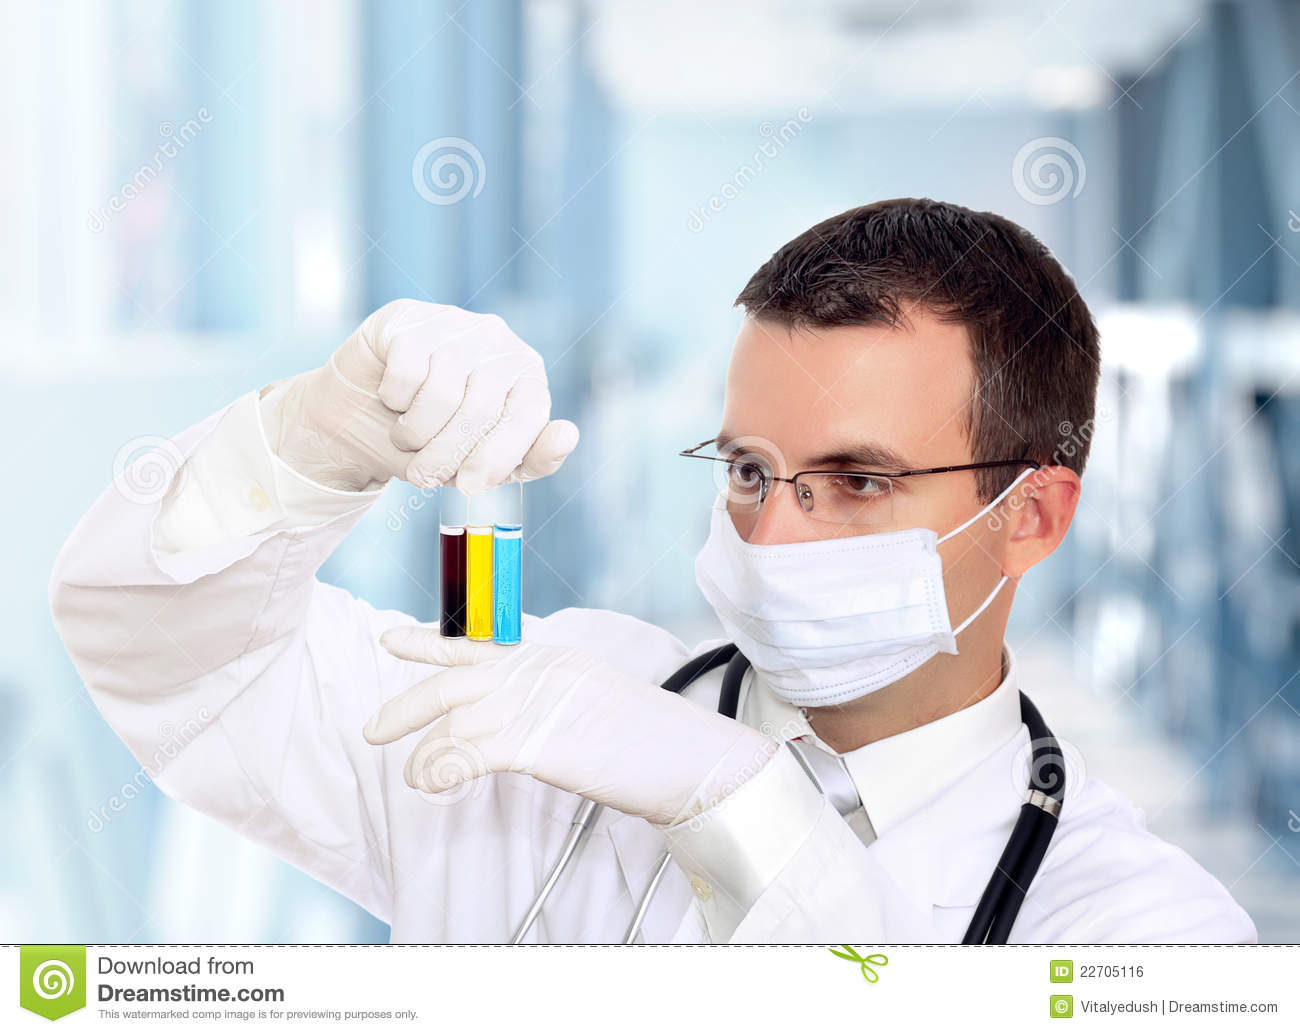mask: (677, 501, 966, 700)
